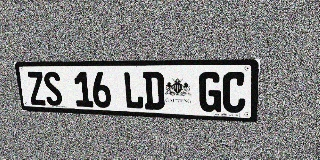1: (72, 72, 94, 107)
6: (91, 72, 112, 108)
C: (222, 72, 247, 113)
D: (143, 72, 165, 110)
G: (199, 72, 222, 112)
L: (123, 72, 144, 109)
S: (42, 72, 63, 106)
Z: (26, 72, 47, 105)
